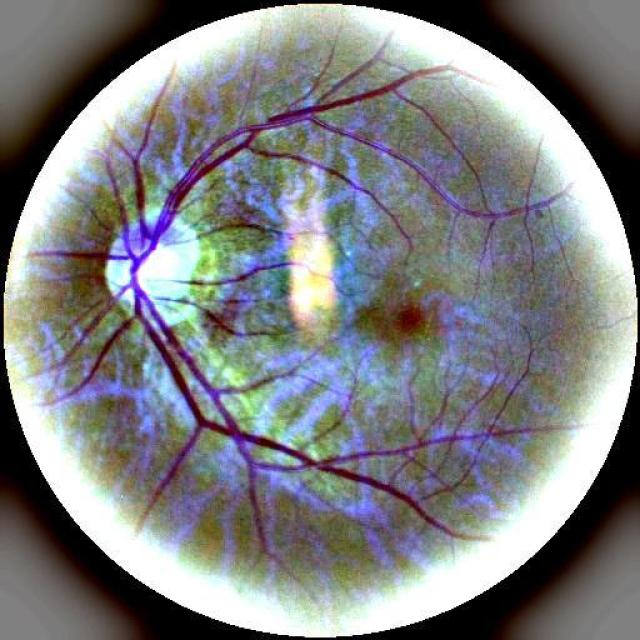Macula: (393, 293, 429, 342)
Nerves: (30, 82, 458, 536), (160, 294, 250, 336), (196, 206, 296, 240), (170, 260, 295, 286)
Optic Disk: (105, 219, 215, 326)
